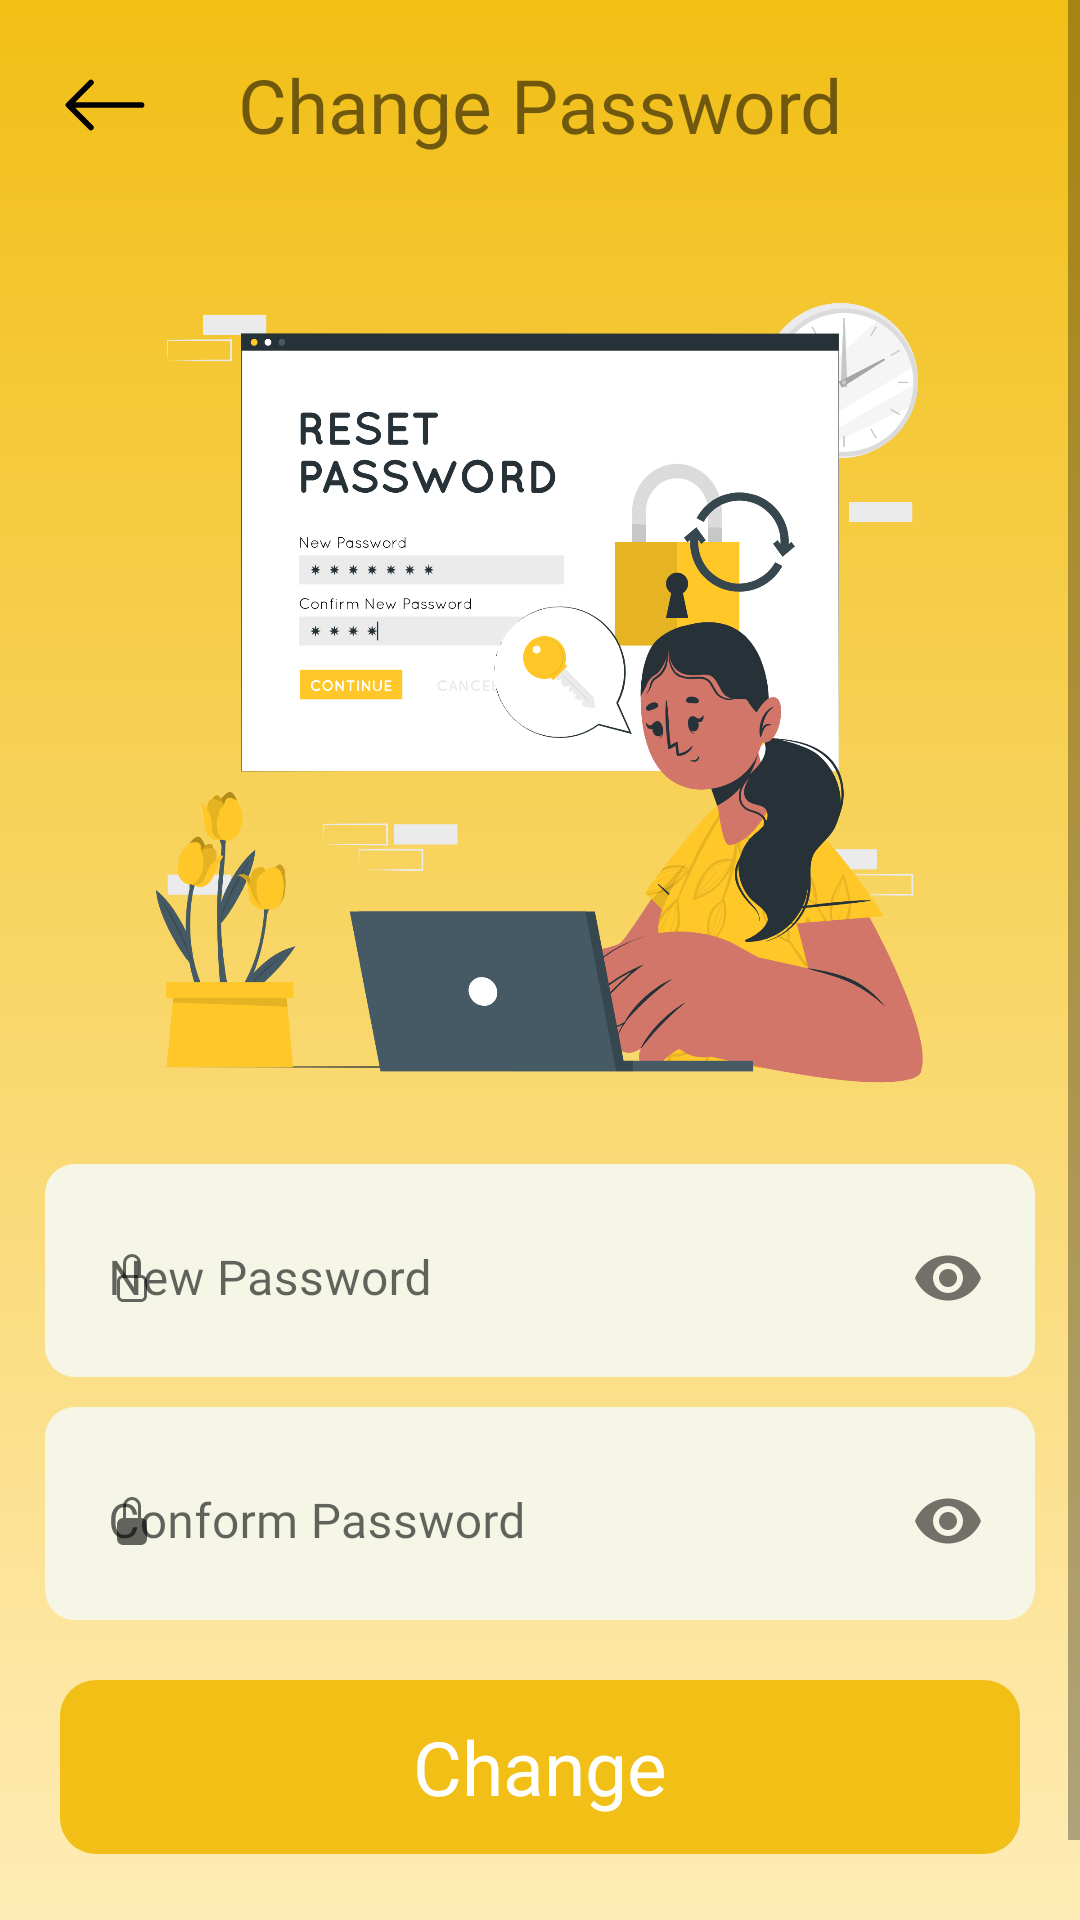

Locate icon controls on the screen. Image size 1080px×1920px, boxes as (x1, y1, x2, y2).
arrow left: (65, 79, 145, 131)
